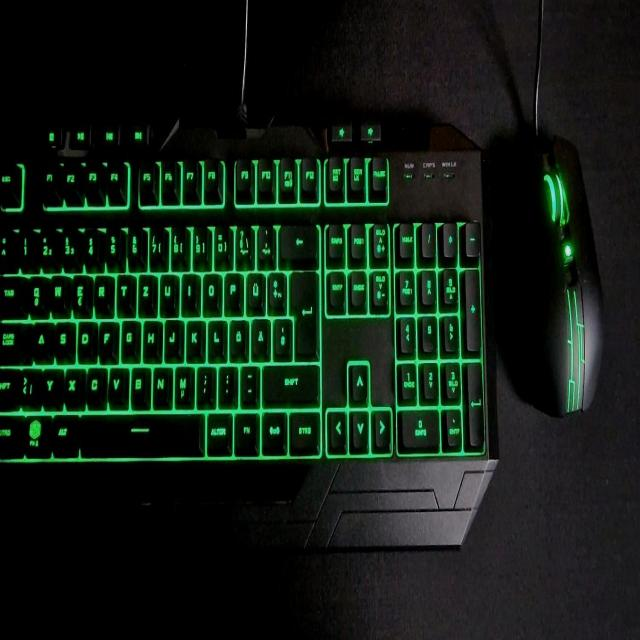0: (213, 220, 232, 266)
1: (18, 227, 35, 268)
2: (41, 227, 57, 268)
3: (62, 227, 78, 268)
4: (82, 226, 98, 267)
5: (105, 226, 122, 267)
6: (125, 222, 147, 269)
7: (147, 221, 168, 268)
8: (169, 221, 190, 268)
9: (190, 220, 211, 267)
a: (31, 319, 50, 359)
accent: (256, 220, 274, 265)
ae: (250, 314, 270, 358)
alt-left: (50, 411, 76, 456)
altgr-right: (204, 408, 232, 454)
b: (129, 362, 151, 407)
c: (85, 363, 105, 405)
caret: (0, 228, 10, 262)
comma: (195, 362, 215, 405)
d: (76, 316, 96, 361)
del: (278, 222, 319, 263)
e: (71, 272, 90, 312)
enter: (288, 265, 318, 358)
f: (98, 317, 117, 360)
g: (120, 316, 140, 361)
h: (142, 316, 162, 359)
hash: (272, 314, 292, 358)
i: (180, 269, 199, 312)
j: (163, 315, 182, 359)
k: (185, 315, 205, 359)
keyboard: (0, 112, 498, 554)
l: (207, 315, 226, 359)
less: (17, 365, 38, 406)
m: (173, 362, 193, 405)
minus: (240, 362, 259, 404)
n: (151, 362, 172, 407)
o: (201, 269, 221, 312)
oe: (229, 315, 248, 358)
p: (223, 269, 242, 309)
plus: (266, 268, 286, 312)
point: (217, 362, 237, 404)
q: (27, 275, 46, 315)
r: (93, 272, 114, 314)
s: (52, 317, 74, 360)
shift-left: (0, 367, 15, 408)
shift-lock: (0, 320, 25, 362)
shift-right: (261, 360, 320, 403)
space: (78, 410, 201, 455)
ss: (234, 220, 255, 266)
strg-left: (0, 414, 17, 455)
strg-right: (287, 406, 321, 453)
t: (115, 271, 135, 312)
tab: (0, 272, 21, 316)
u: (158, 270, 178, 313)
ue: (245, 269, 264, 310)
v: (107, 362, 128, 407)
w: (47, 271, 66, 311)
x: (63, 364, 82, 408)
y: (40, 366, 61, 409)
z: (137, 270, 155, 312)
